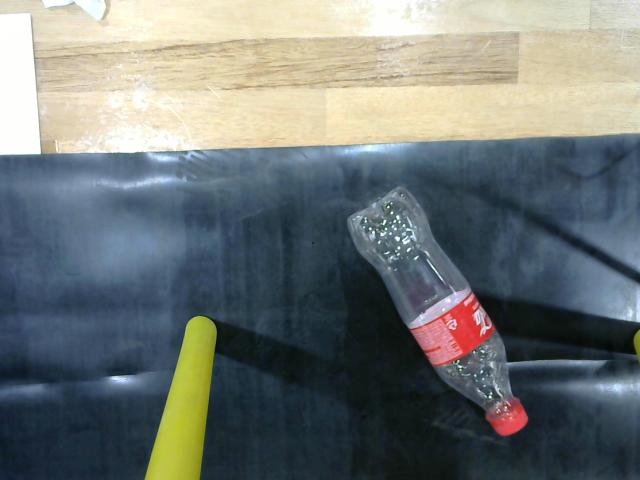bottle: (340, 175, 535, 442)
